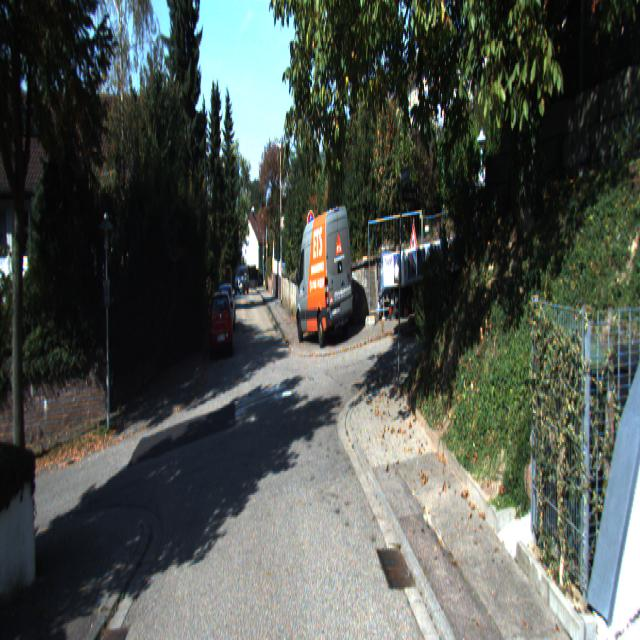Car: (382, 154, 513, 351), (294, 200, 355, 346), (207, 288, 235, 362)
